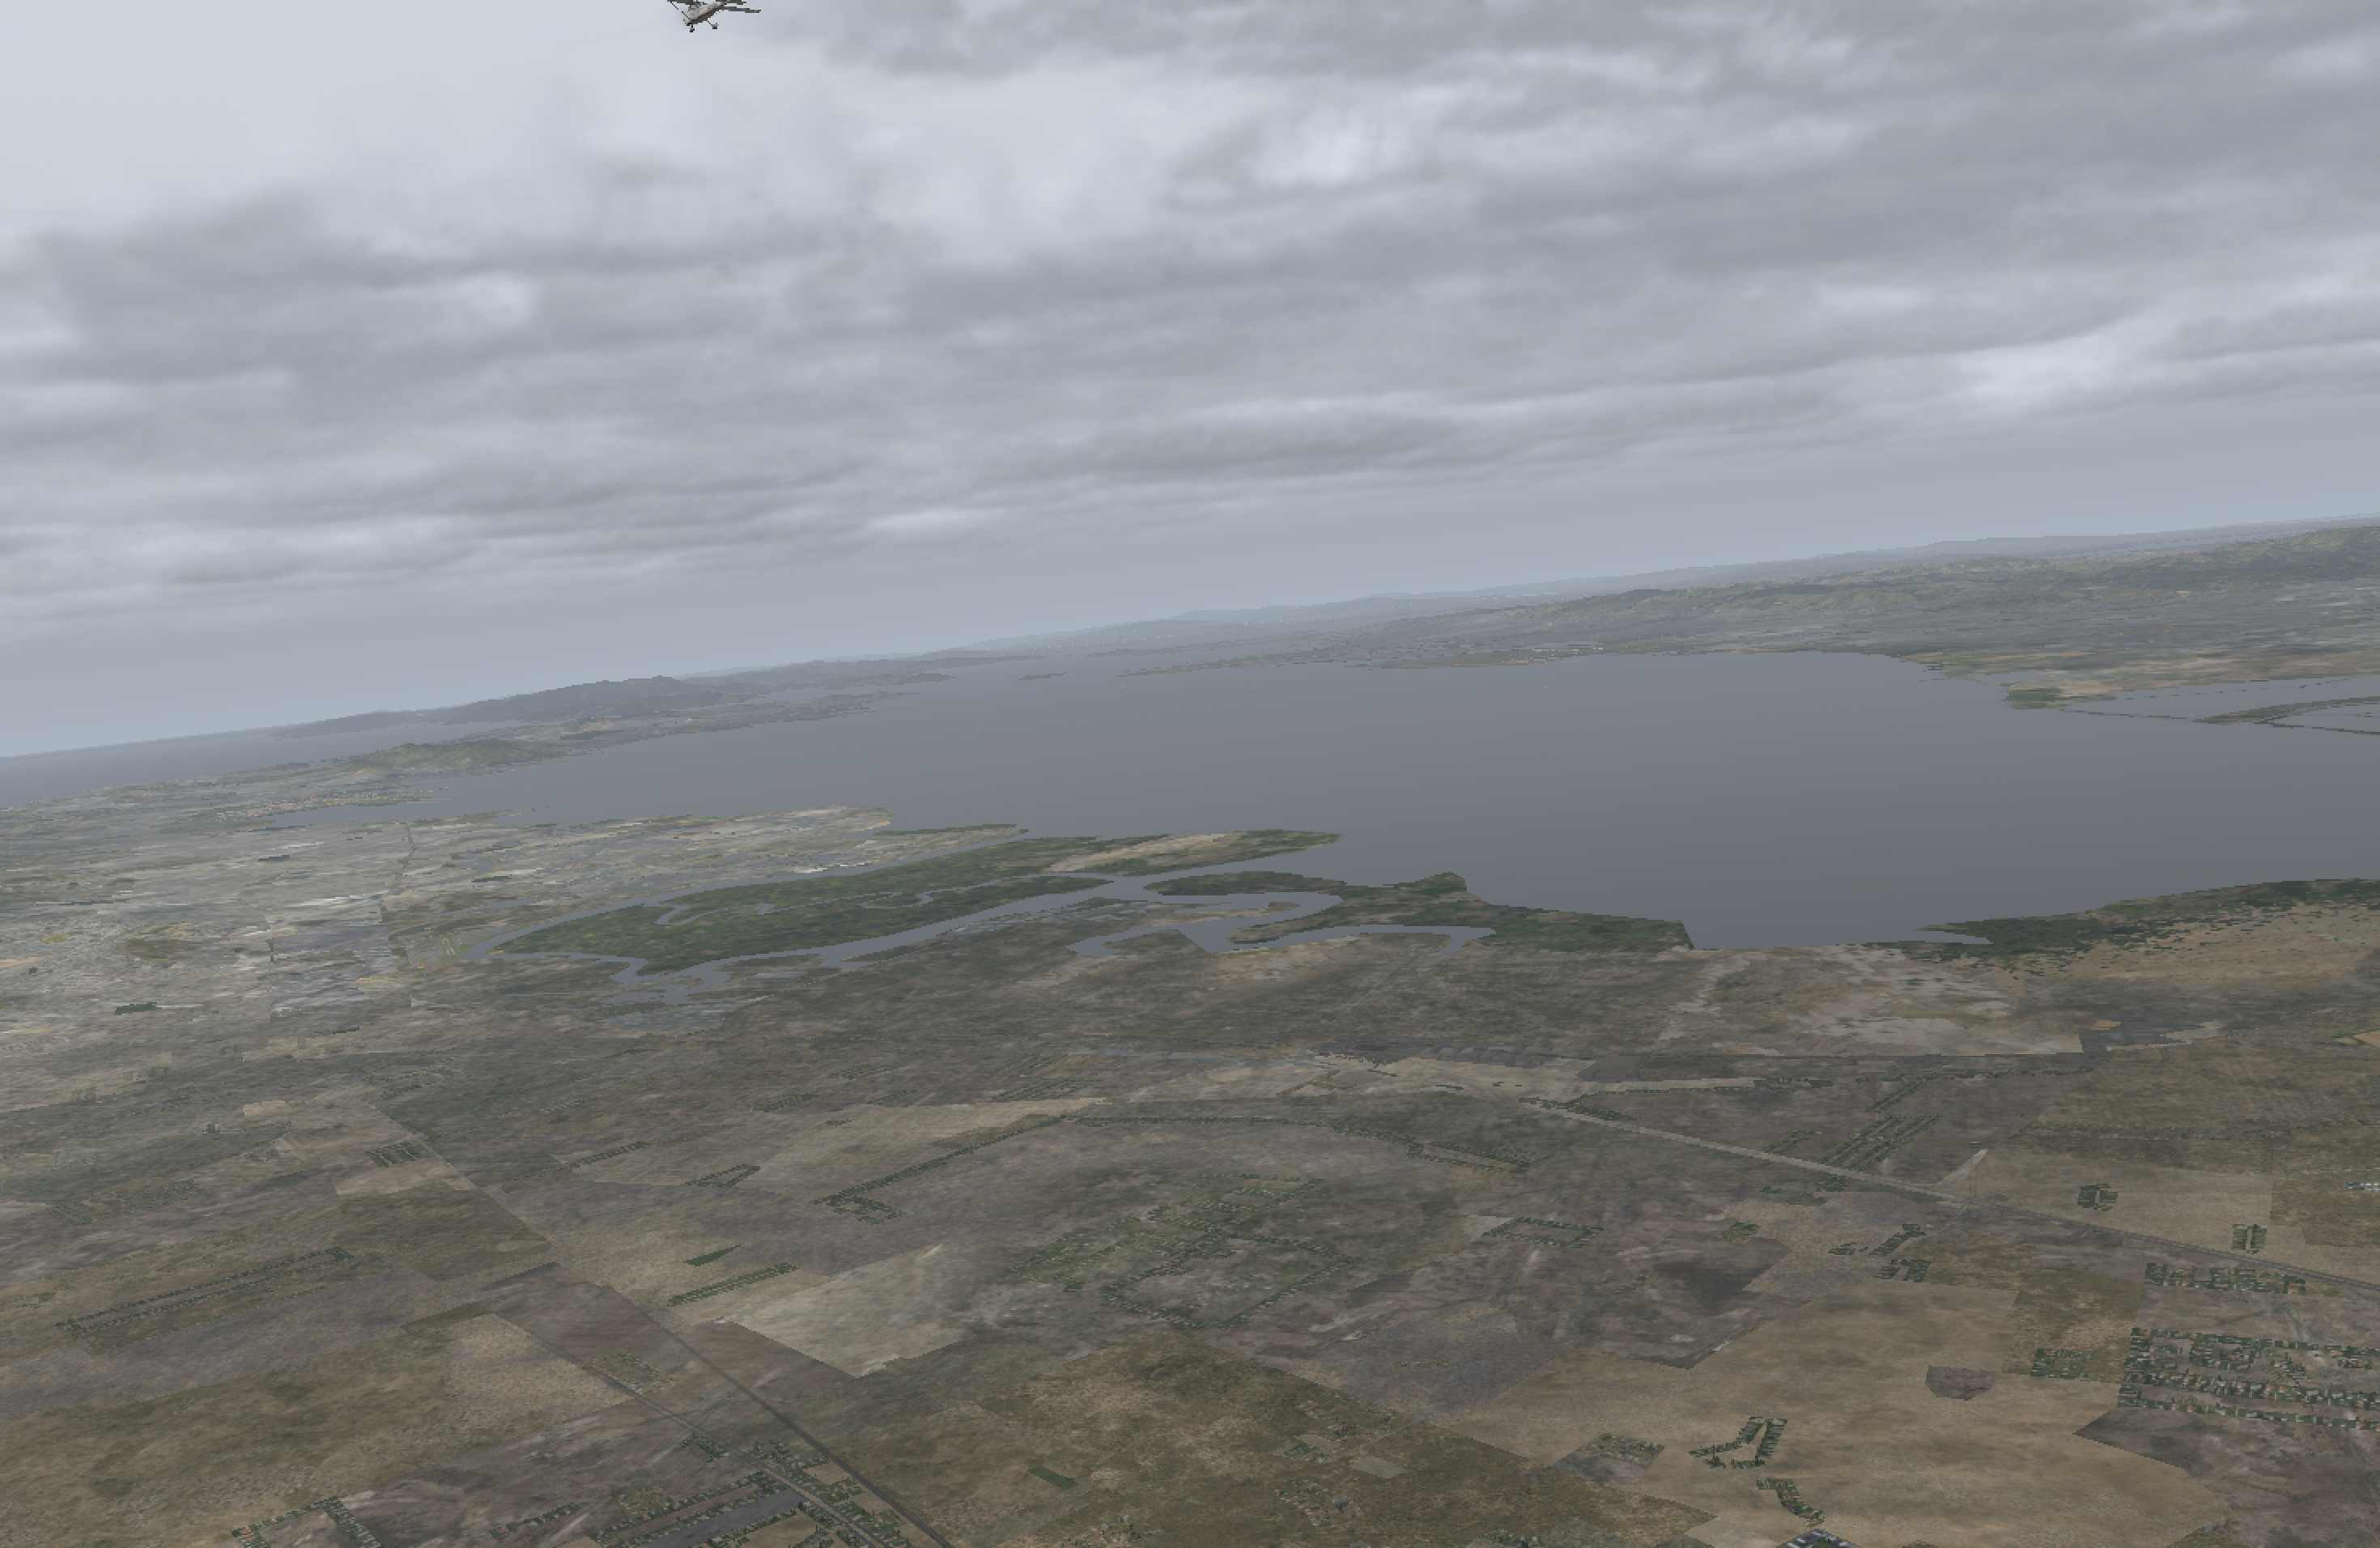aircraft: (656, 0, 742, 28)
